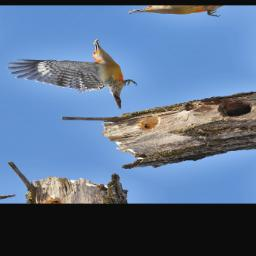Woodpecker: (0, 23, 173, 116)
